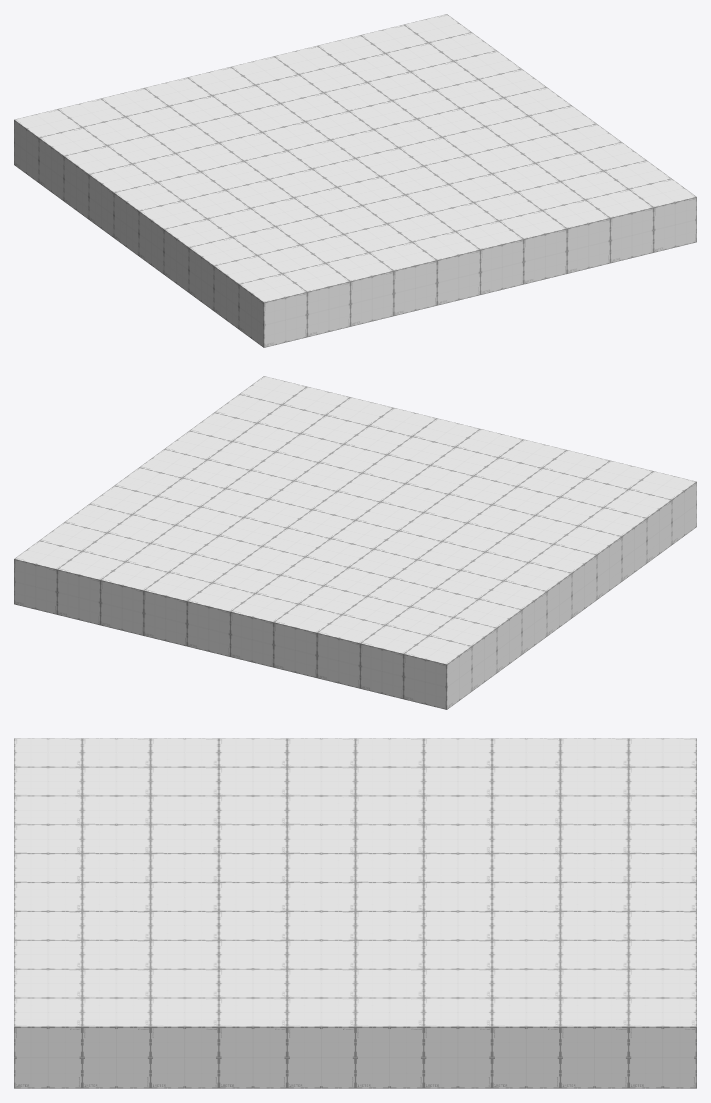
The model's file is ProB_Floor_10x10.fbx.
3 views of the same model, one above another, from view 1: azimuth 30°, elevation 25°; view 2: azimuth 150°, elevation 25°; view 3: azimuth 270°, elevation 25° (orthographic). The views are drawn at different scales.
Parts seen in each view (by area): view 1: ProB_Floor_10x10; view 2: ProB_Floor_10x10; view 3: ProB_Floor_10x10.
Part boxes in pixels (box(x1,y1,x2,y2)): ProB_Floor_10x10: box(14, 14, 696, 347); ProB_Floor_10x10: box(14, 376, 696, 709); ProB_Floor_10x10: box(14, 738, 696, 1088).
Size of the model in its own units: 1000 by 100 by 1000.
